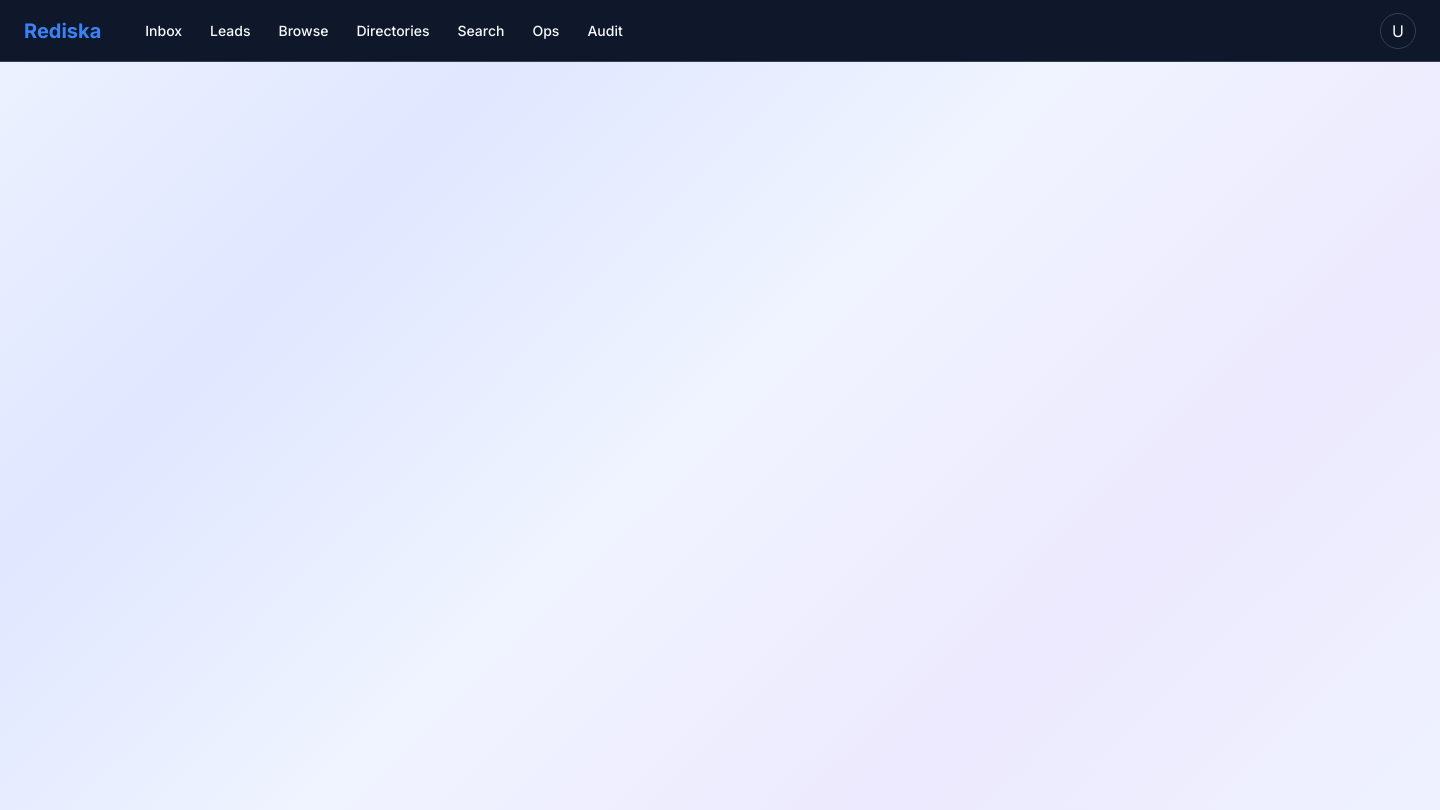
Scenario: Navigation › user menu › shows logout option in user menu
Click the button named "user menu" at [1398, 30], box [1380,12,1416,48]
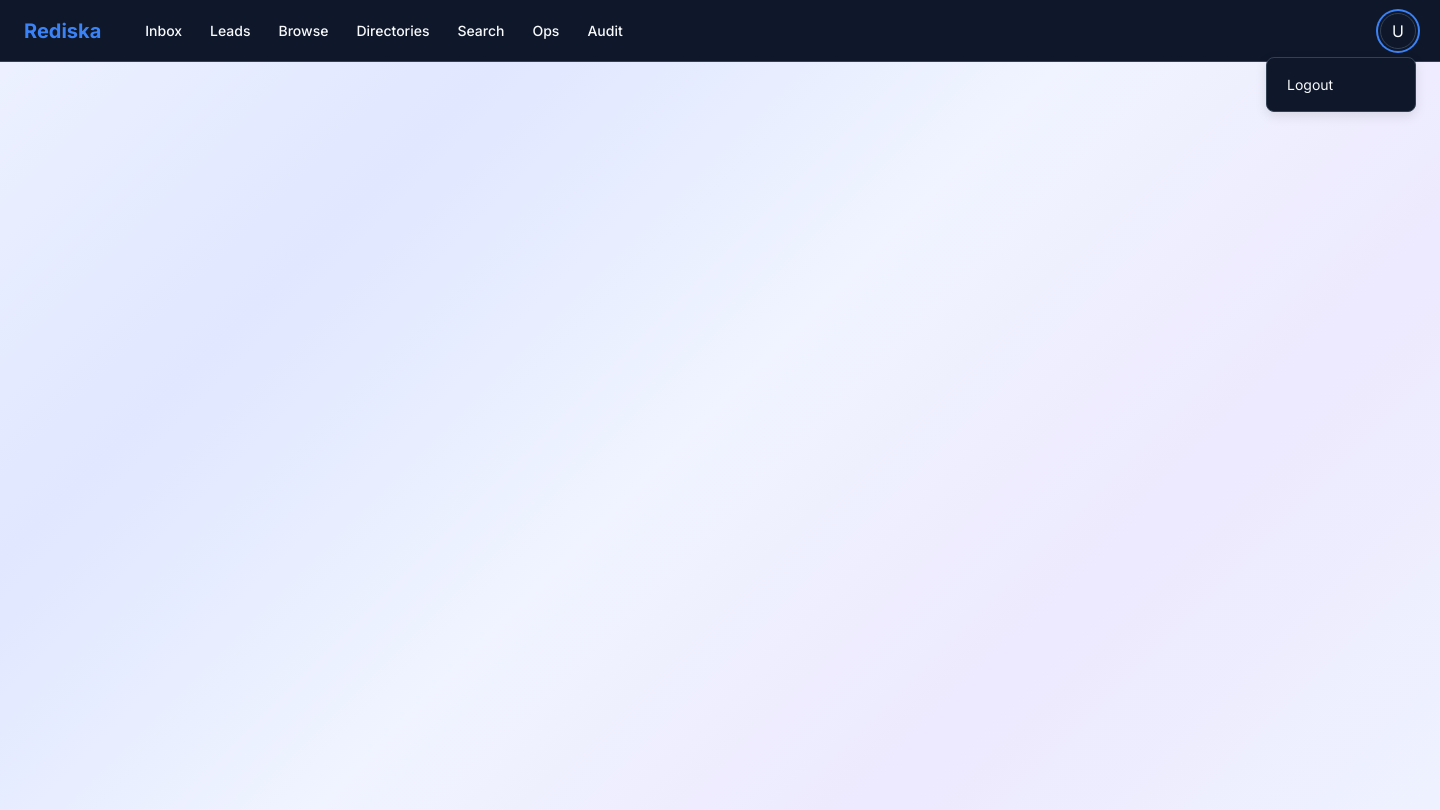
Expected: the button "Logout" is shown, [1275,66,1407,102]
